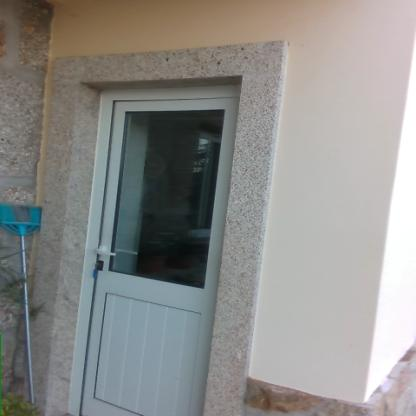closed: (72, 75, 256, 415)
